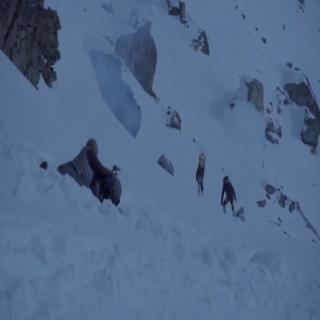gun: (112, 160, 121, 177)
